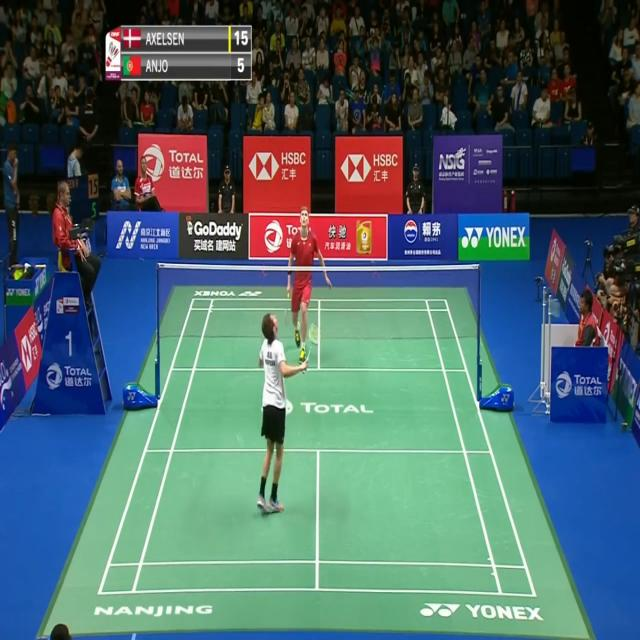Player1: (256, 308, 326, 527)
Player2: (280, 196, 334, 372)
